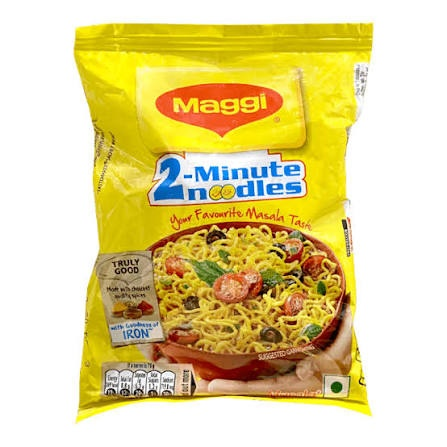maggi: (67, 33, 363, 421)
